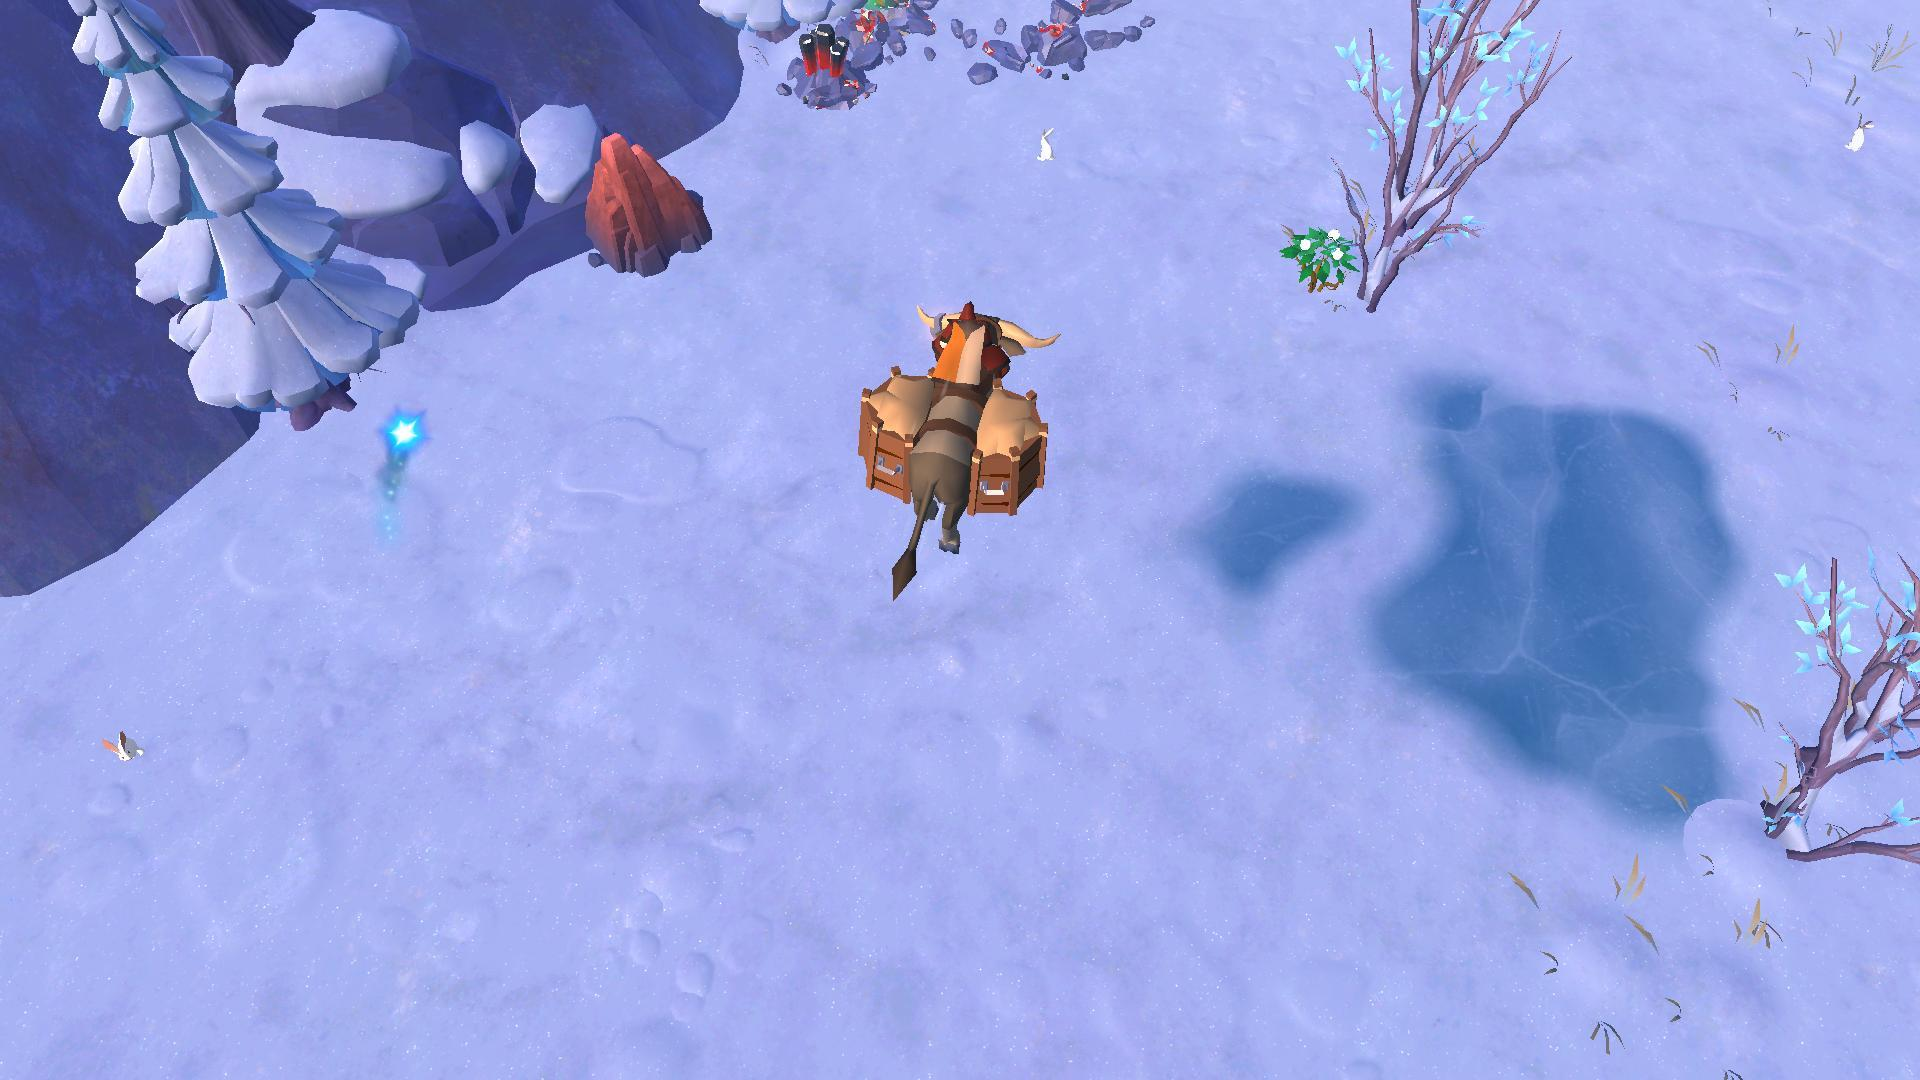fiber_t3: (1273, 212, 1364, 302)
ore_t5: (795, 22, 849, 87)
rock_t5: (574, 129, 713, 278)
